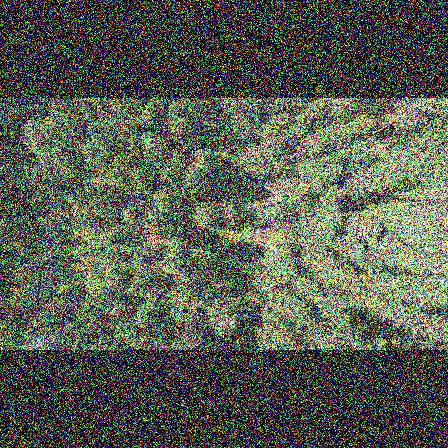Sick: (213, 313, 240, 337), (352, 166, 375, 191), (98, 254, 119, 276), (245, 144, 266, 163), (187, 297, 210, 314), (261, 276, 281, 295), (334, 98, 357, 112)
